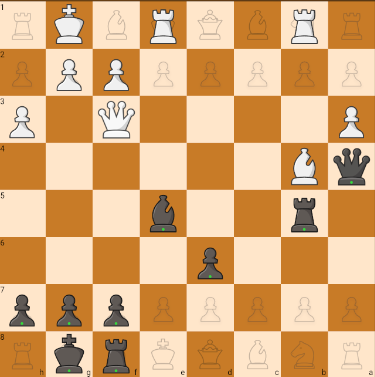bb: (147, 193, 181, 236)
bk: (47, 333, 91, 377), (332, 146, 371, 187)
bp: (0, 285, 45, 330), (97, 290, 136, 331), (52, 287, 89, 330), (192, 244, 227, 281)
br: (282, 191, 326, 236), (99, 336, 135, 374)
wb: (283, 147, 326, 188)
wk: (49, 3, 93, 47), (97, 99, 136, 141)
wp: (3, 99, 41, 141), (50, 56, 88, 94), (100, 54, 135, 93), (334, 101, 368, 141)
wr: (141, 0, 182, 46), (285, 2, 322, 47)
